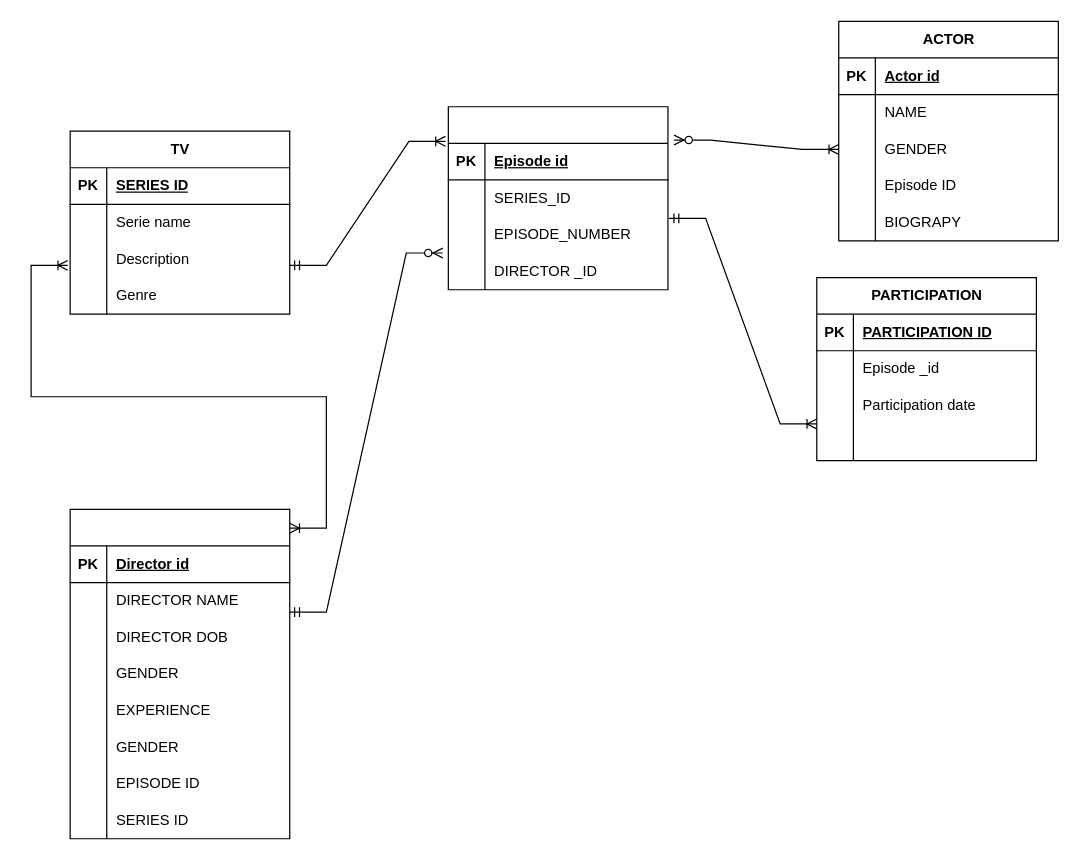
Some shapes in this 1080 by 860 pixel diagram are drawn without their labels. The box of each missing label's shape, as (x1, y1, x2, y2) in pixels:
DIRECTORS: (69, 508, 290, 839)
EPISODES: (447, 106, 668, 290)
